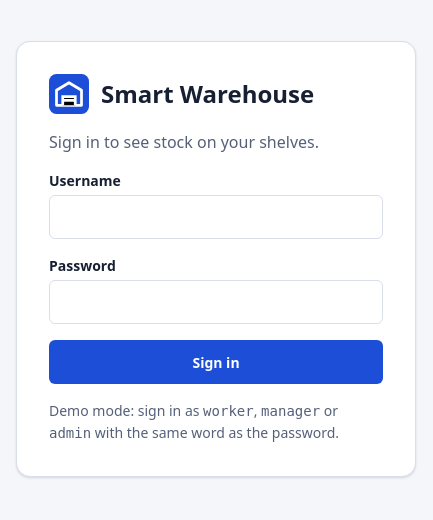
Test: LoginPage › shows field errors when the form is submitted empty
The image size is (433, 520).
Click the button "Sign in" at (216, 362), box [49,340,383,384]
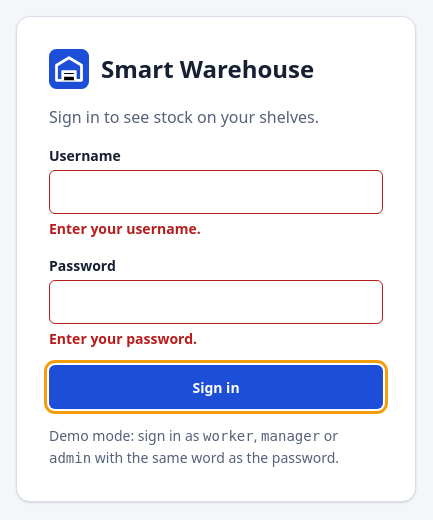
Expected: the text "Enter your username." is shown, [49,219,201,238]
Expected: the text "Enter your password." is shown, [49,329,197,348]
